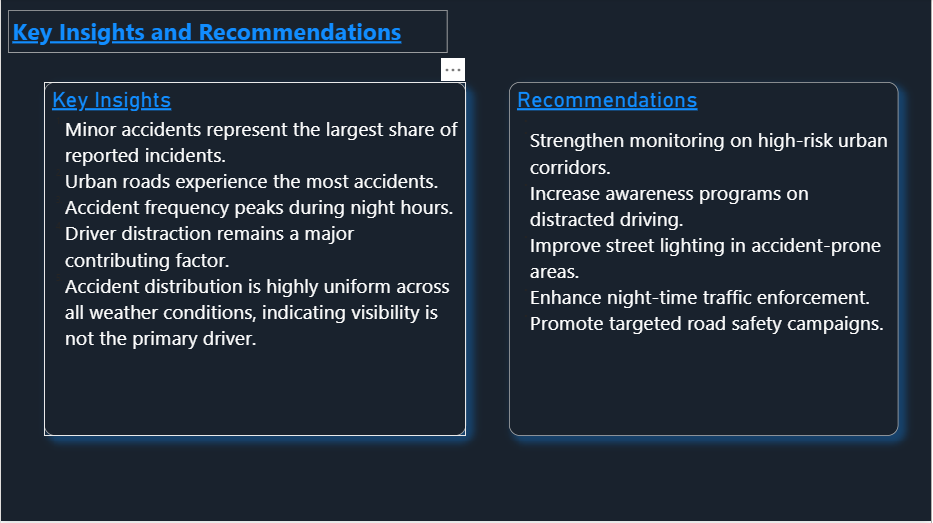

Layout of this report page (visuals, bound fields, positions):
{"tool":"powerbi","page":{"name":"Page 2","canvas":[1280,720],"ordinal":1},"visuals":[{"type":"textbox","box":[10.1,16.8,604.7,58.8],"z":0},{"type":"textbox","title":"Key Insights","box":[59.2,115.6,580.8,487.2],"z":1000},{"type":"textbox","title":"Recommendations","box":[698.8,115.9,535.9,487.1],"z":2000}]}

Visuals, with their boxes in screenshot pixels (x1, y1, x2, y2), scaled from the page's 1280x720 canvas onto the 933x523 screenshot:
textbox: Rect(7, 12, 448, 55)
"Key Insights" textbox: Rect(43, 84, 466, 438)
"Recommendations" textbox: Rect(509, 84, 900, 438)
